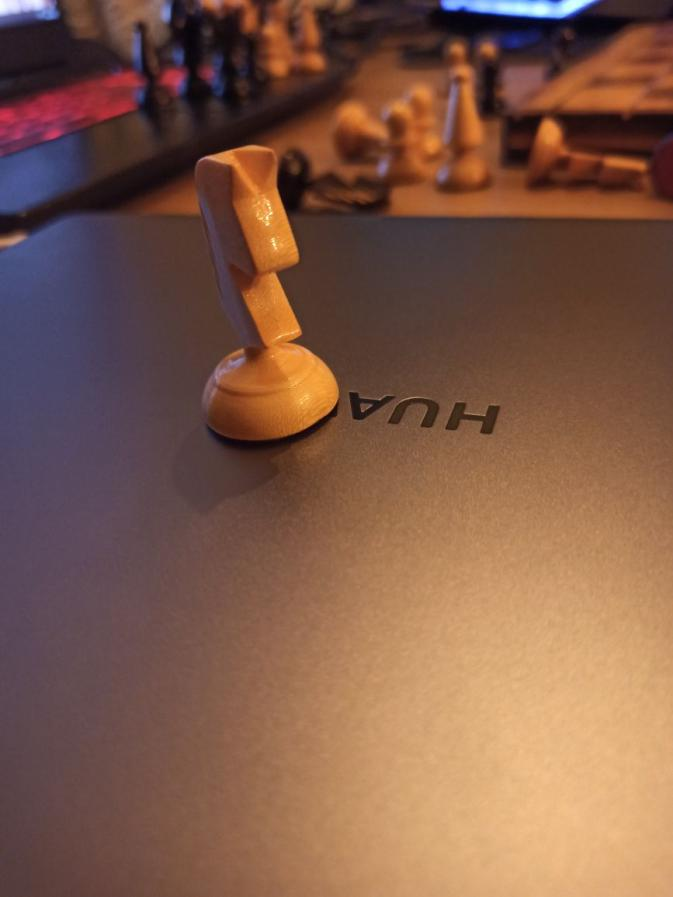wknight: (191, 144, 341, 444)
